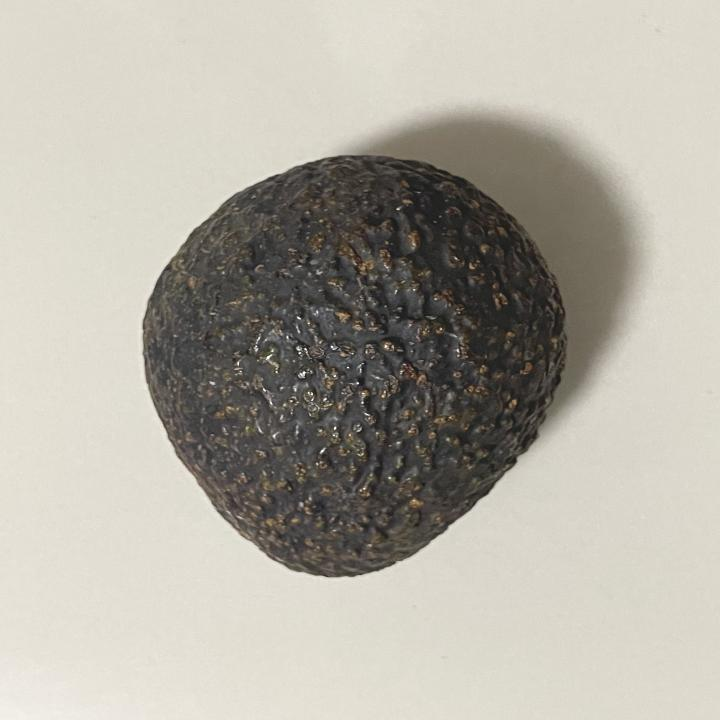Level2: (134, 151, 577, 586)
